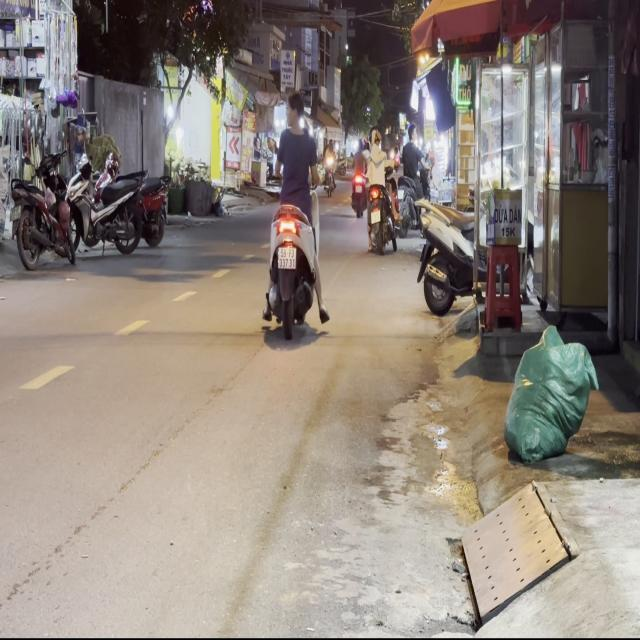licenseplate: (260, 87, 328, 340)
motorcyclist: (284, 88, 305, 126)
nohelmet: (277, 245, 296, 268)
